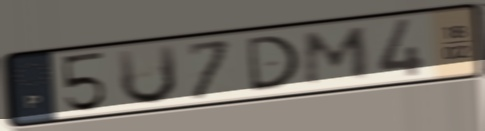4: (375, 15, 428, 81)
5: (59, 49, 107, 114)
7: (187, 37, 233, 102)
D: (243, 32, 303, 95)
M: (302, 24, 371, 88)
U: (113, 41, 180, 108)
